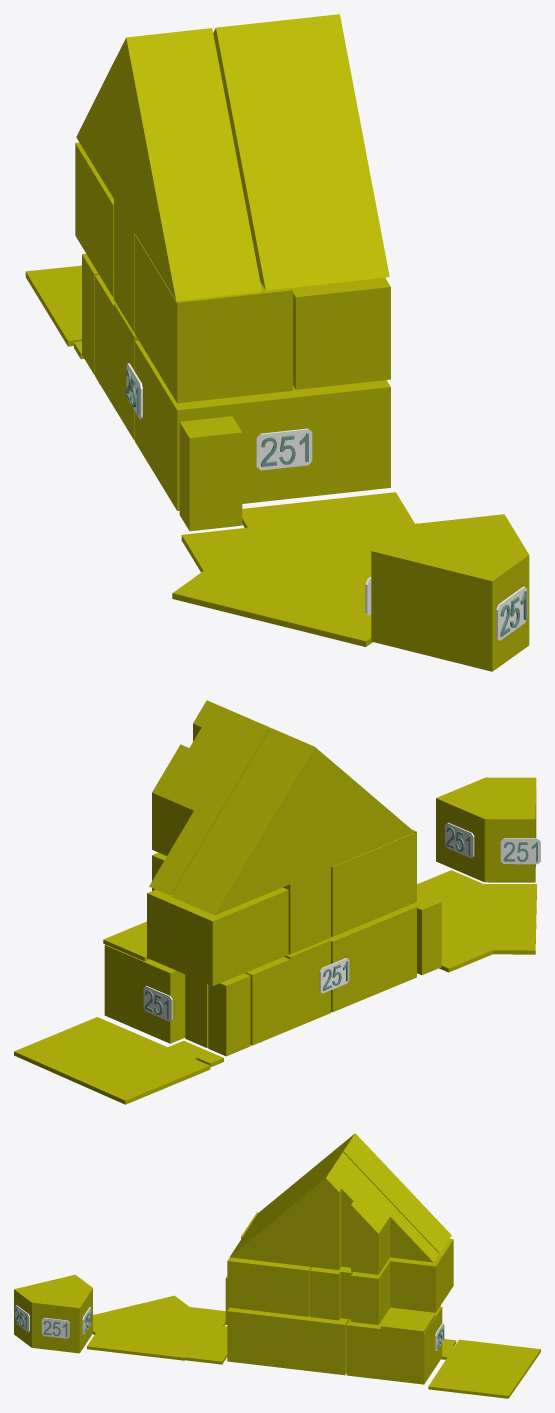
The picture shows the model from 3 angles, top to bottom: view 1: azimuth 30°, elevation 25°; view 2: azimuth 150°, elevation 25°; view 3: azimuth 270°, elevation 25°; orthographic projection. The views are drawn at different scales.
Visible parts, largest first — view 1: g_6, g_7, g_15, g_0, g_3, g_9, g_10, g_4, g_8, g_2, g_11, g_17 (+4 smaller); view 2: g_7, g_6, g_11, g_17, g_15, g_3, g_2, g_9, g_0, g_8, g_1, g_5 (+7 smaller); view 3: g_6, g_15, g_0, g_11, g_1, g_17, g_3, g_10, g_7, g_13, g_16, g_25 (+1 smaller).
Boxes of the visible parts, x1,y1,x2,y2 form: g_6: (213, 14, 389, 290); g_7: (76, 28, 262, 301); g_15: (172, 492, 416, 646); g_0: (135, 341, 390, 510); g_3: (371, 514, 529, 671); g_9: (135, 234, 292, 403); g_10: (291, 277, 390, 389); g_4: (179, 416, 242, 531); g_8: (114, 33, 175, 231); g_2: (95, 275, 138, 440); g_11: (75, 142, 113, 297); g_17: (25, 265, 84, 359); g_7: (171, 728, 414, 915); g_6: (149, 700, 270, 895); g_11: (147, 852, 288, 986); g_17: (14, 1017, 223, 1104); g_15: (417, 870, 536, 972); g_3: (436, 777, 536, 882); g_2: (185, 939, 330, 1047); g_9: (331, 829, 416, 936); g_0: (328, 904, 416, 1012); g_8: (271, 738, 330, 883); g_1: (104, 944, 185, 1043); g_5: (208, 973, 250, 1056); g_6: (230, 1152, 438, 1274); g_15: (87, 1295, 227, 1364); g_0: (227, 1307, 349, 1375); g_11: (351, 1239, 453, 1324); g_1: (346, 1306, 442, 1384); g_17: (428, 1339, 540, 1398); g_3: (14, 1274, 92, 1353); g_10: (227, 1257, 312, 1316); g_7: (247, 1142, 451, 1253); g_13: (310, 1266, 352, 1320); g_16: (380, 1309, 435, 1334); g_25: (41, 1317, 69, 1338).
Size of the model in its own units: 11.13 by 10.25 by 24.7.
